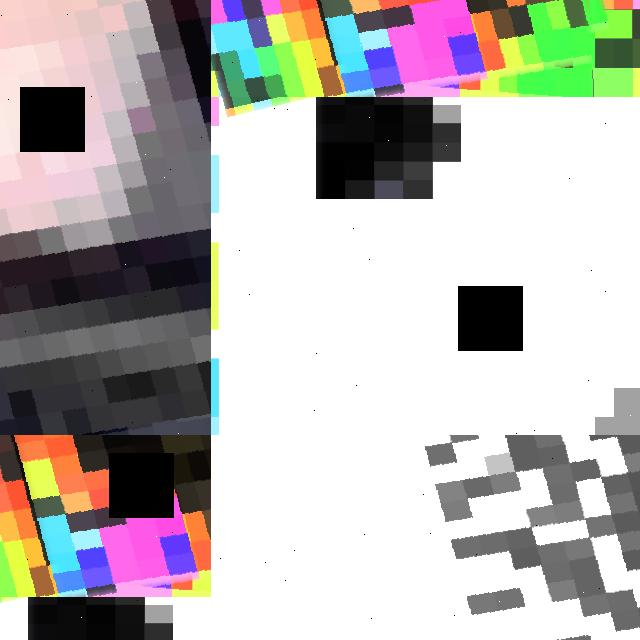arms: (211, 0, 640, 435), (0, 0, 211, 435), (211, 435, 640, 640), (0, 435, 211, 640), (211, 0, 596, 97), (0, 435, 211, 597)
